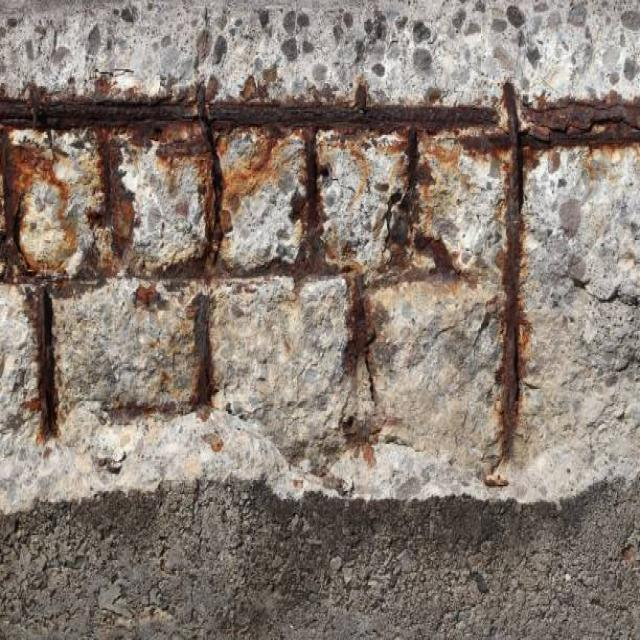crack: (498, 82, 639, 456), (0, 96, 500, 134)
spalling: (0, 0, 639, 510)
stain_mould: (37, 288, 57, 439), (191, 293, 212, 407)
